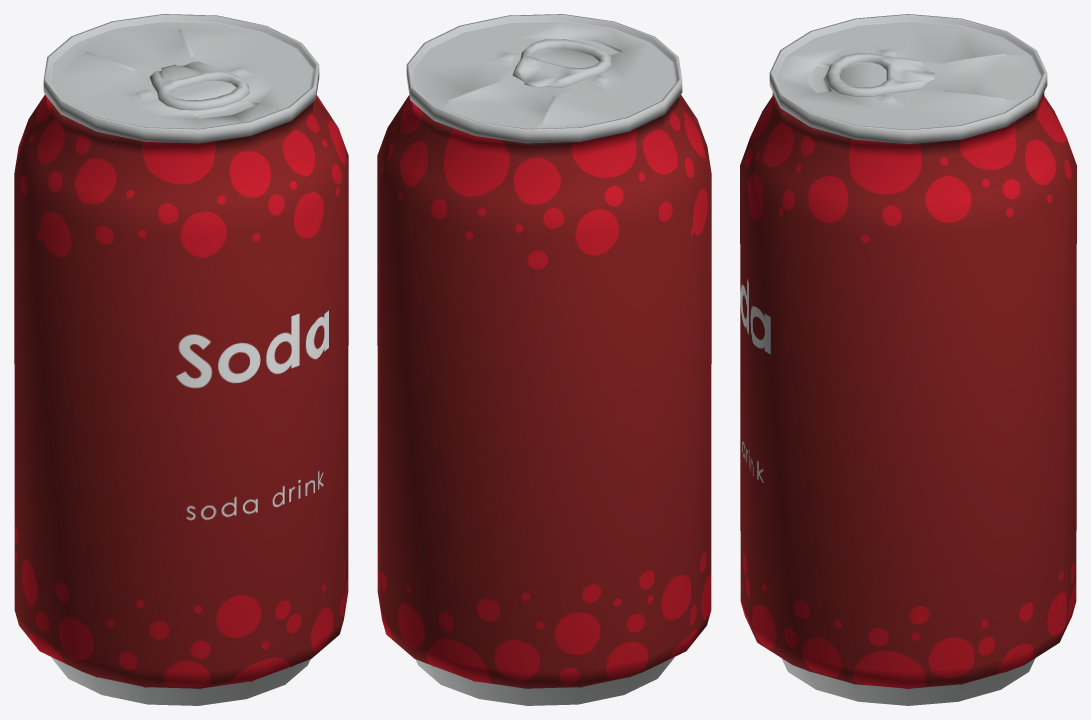
Rendered from soda.fbx.
3 views of the same model, side by side, from view 1: azimuth 30°, elevation 25°; view 2: azimuth 150°, elevation 25°; view 3: azimuth 270°, elevation 25° (orthographic).
Parts seen in each view (by area): view 1: soda; view 2: soda; view 3: soda.
Boxes of the visible parts, x1,y1,x2,y2 form: soda: [14, 14, 348, 705]; soda: [377, 14, 711, 705]; soda: [740, 14, 1076, 705].
Bounding box in the file's own units: 0.0848 × 0.1615 × 0.0848.
